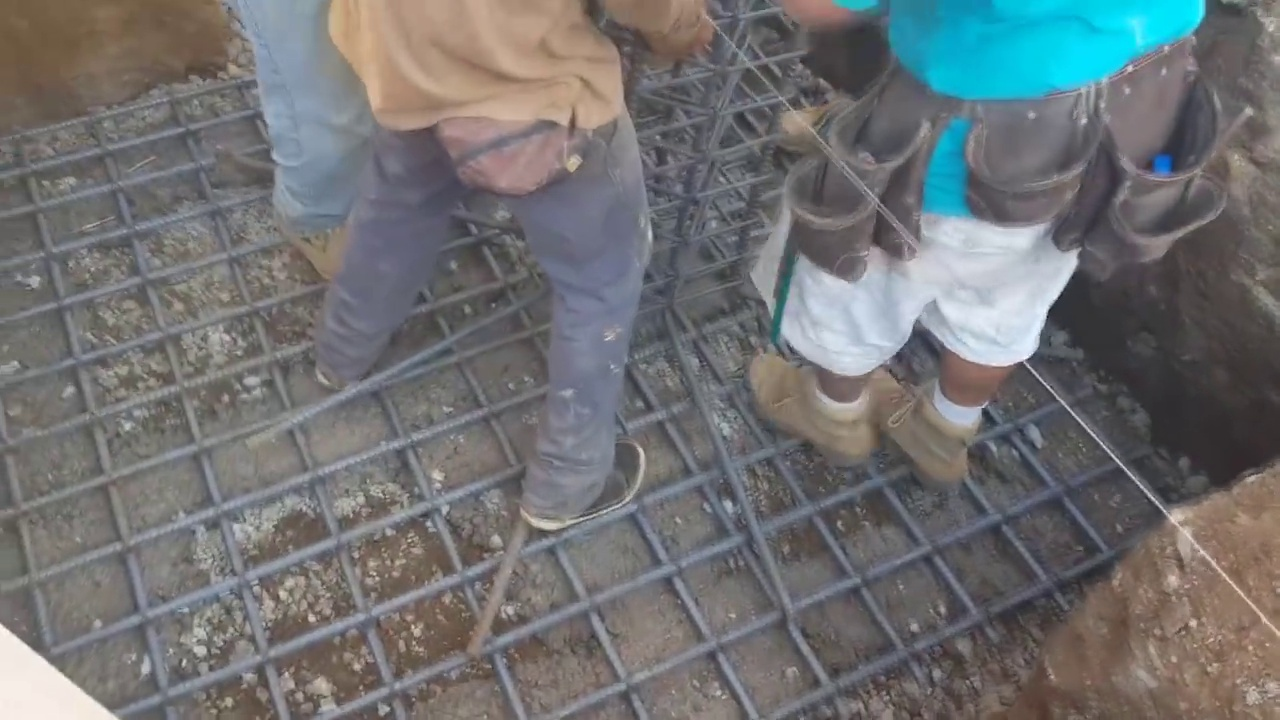person: (746, 2, 1209, 491), (319, 0, 710, 527), (226, 2, 373, 285)
